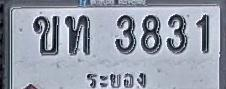1: (196, 14, 209, 53)
3: (166, 13, 188, 54), (115, 14, 136, 54)
8: (141, 14, 161, 54)
A02: (33, 15, 59, 55)
A23: (65, 15, 90, 55)
RYG: (82, 69, 150, 89)
